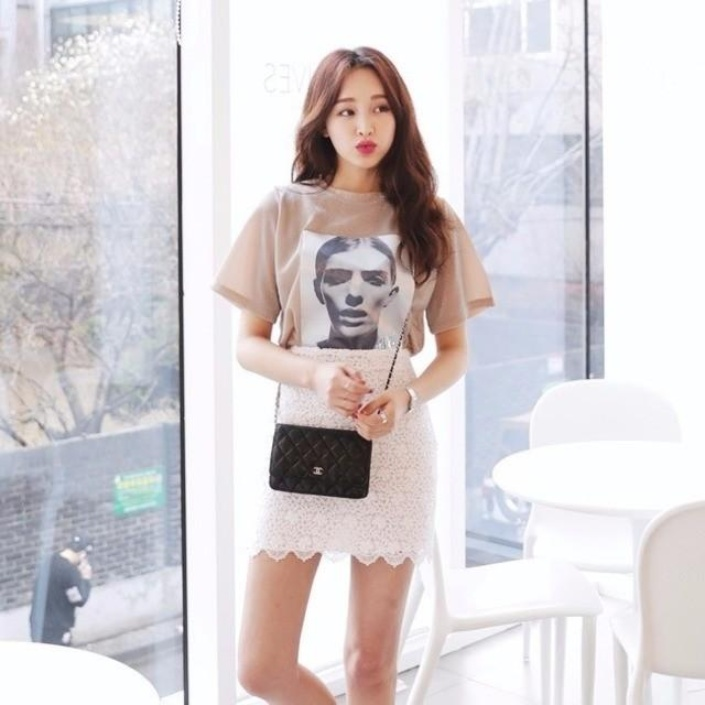Miniskirt: (246, 343, 439, 600)
